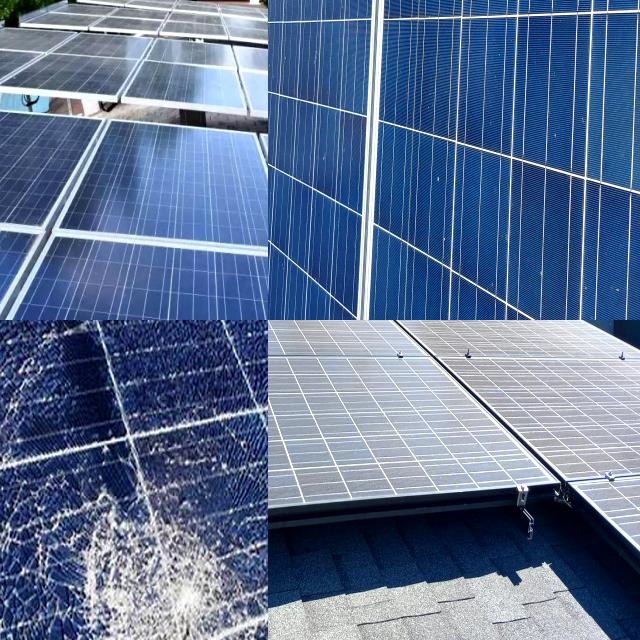crack: (48, 113, 268, 269), (0, 251, 268, 320)
dust: (280, 376, 416, 476), (268, 358, 332, 500), (536, 379, 636, 458), (408, 320, 540, 353), (432, 419, 488, 482), (462, 357, 520, 412), (268, 320, 373, 346), (268, 320, 359, 348), (268, 320, 312, 352), (376, 320, 426, 337)
hotspot: (55, 494, 267, 640)
